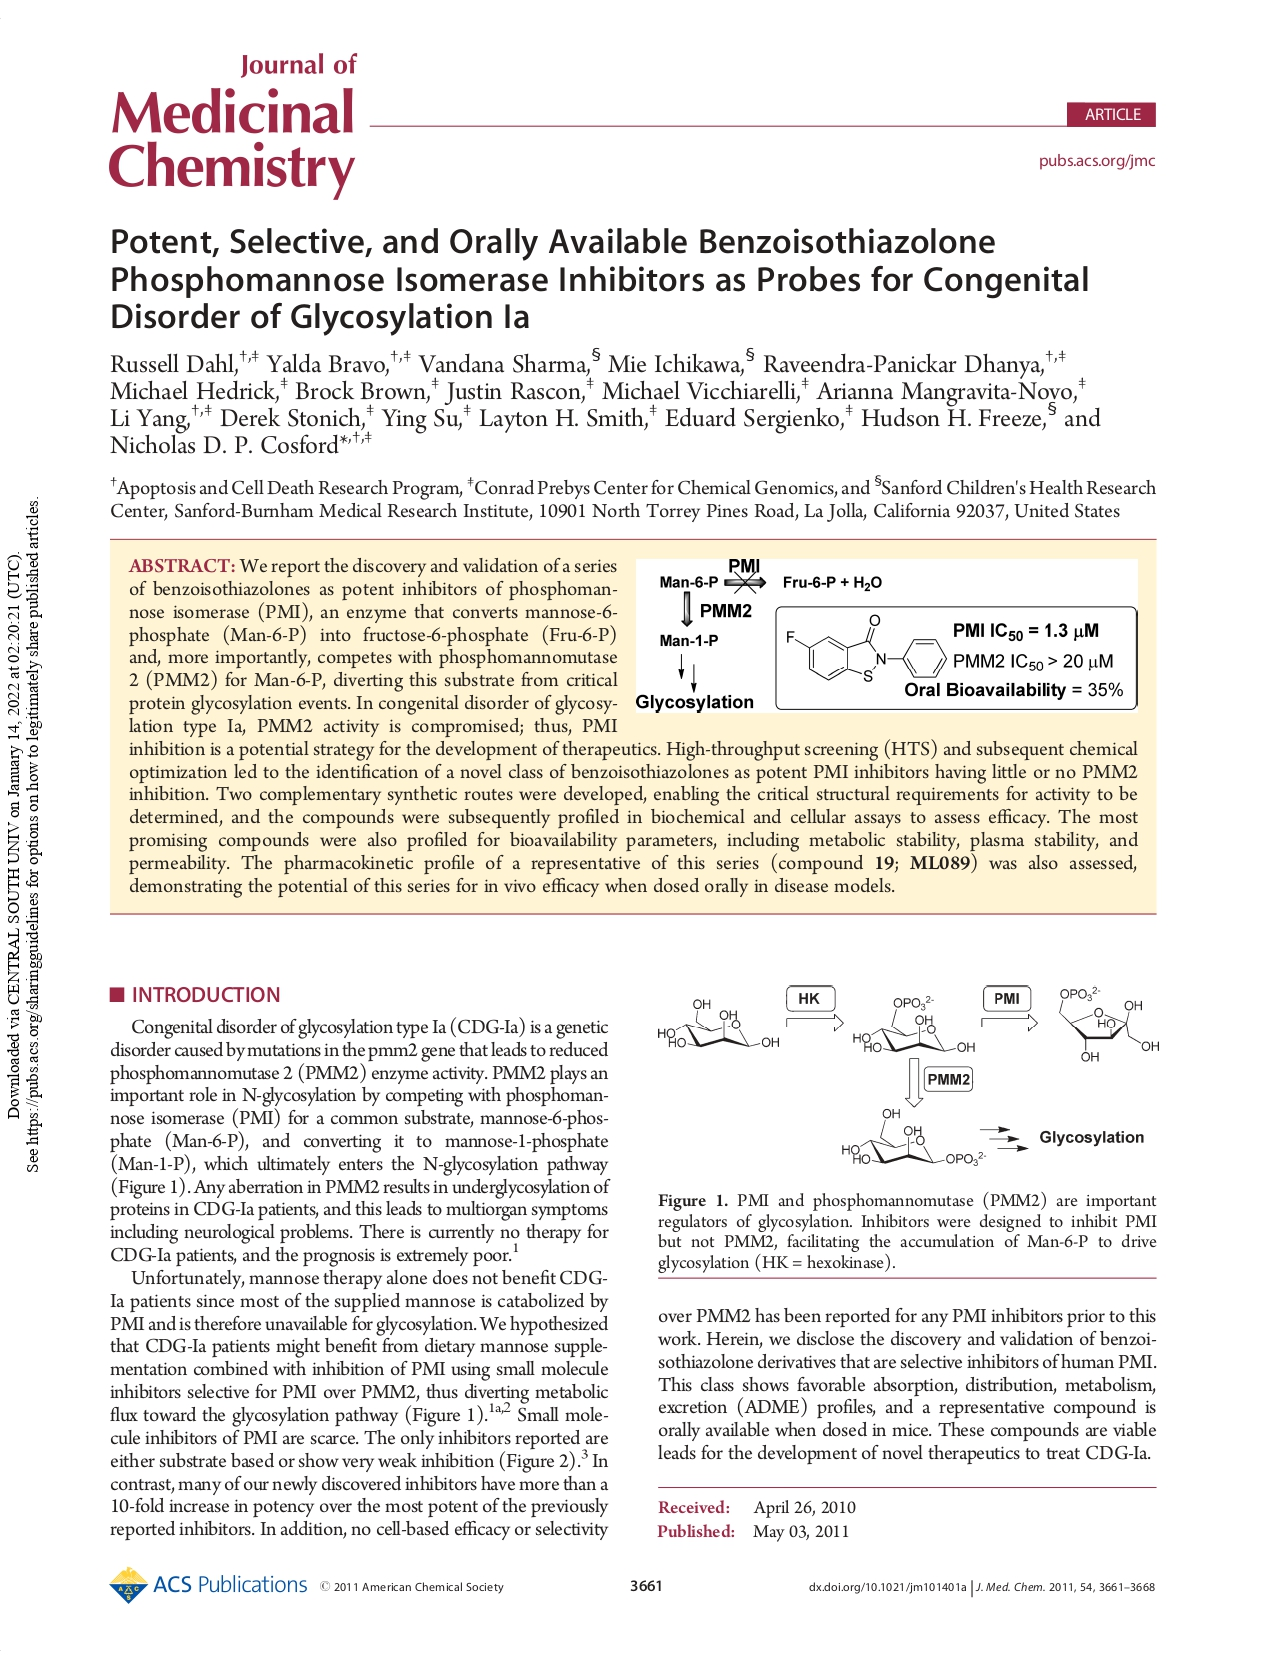exist_molecular: (783, 612, 949, 685), (1049, 981, 1162, 1067), (840, 1106, 983, 1170), (656, 989, 782, 1060), (848, 991, 977, 1057)
